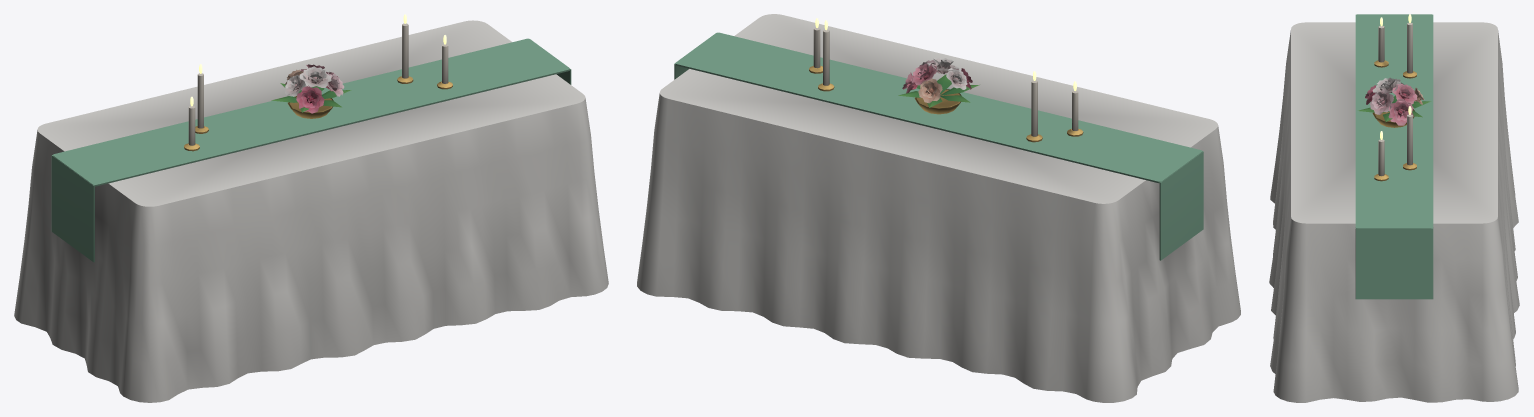
Rendered from ban-dai.glb.
The picture shows the model from 3 angles, left to right: view 1: azimuth 30°, elevation 25°; view 2: azimuth 150°, elevation 25°; view 3: azimuth 270°, elevation 25°; orthographic projection. The views are drawn at different scales.
Visible parts, largest first — view 1: ban-dai; view 2: ban-dai; view 3: ban-dai.
Part boxes in pixels (bbox=[...]): ban-dai: bbox=[14, 14, 608, 402]; ban-dai: bbox=[637, 14, 1240, 402]; ban-dai: bbox=[1269, 14, 1519, 402].
Size of the model in its own units: 1.99 by 0.999 by 0.9692.
